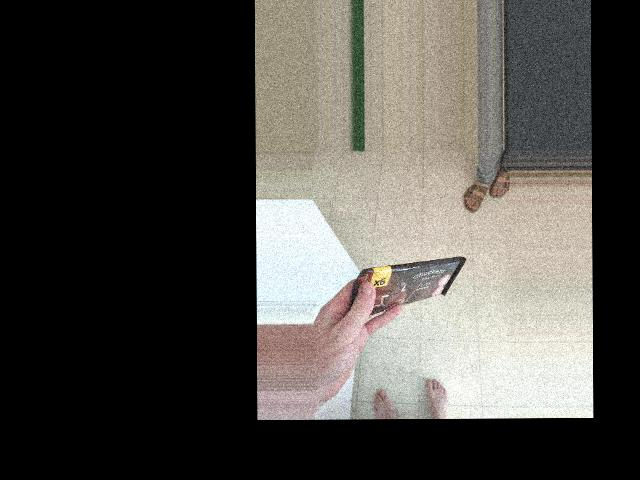chocolate: (340, 248, 471, 324)
